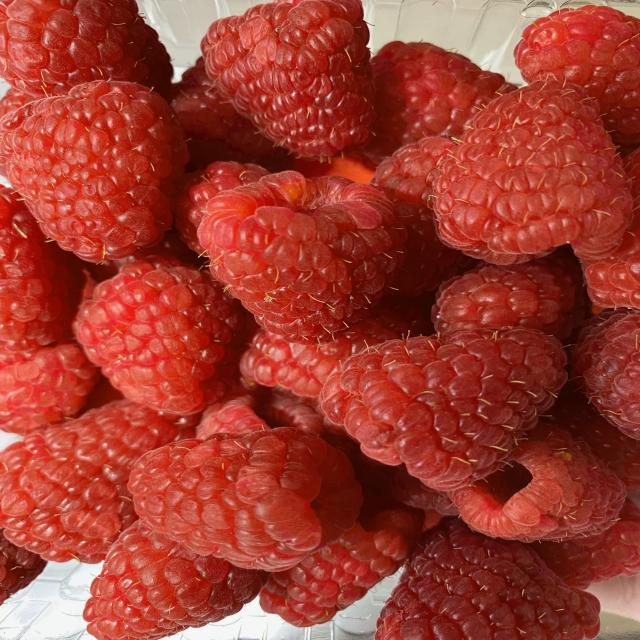raspberries: (7, 6, 620, 628)
